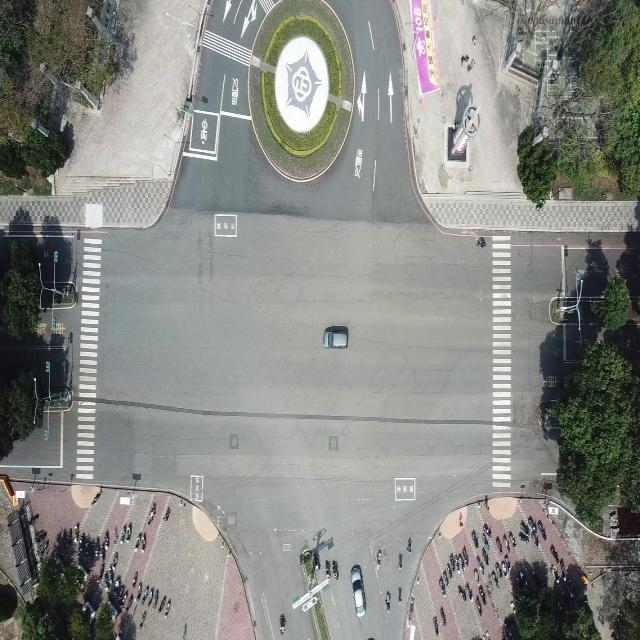bike: (278, 611, 285, 635), (439, 604, 446, 627), (432, 615, 439, 637), (385, 589, 390, 612)
car: (350, 564, 365, 617), (323, 324, 349, 348)
